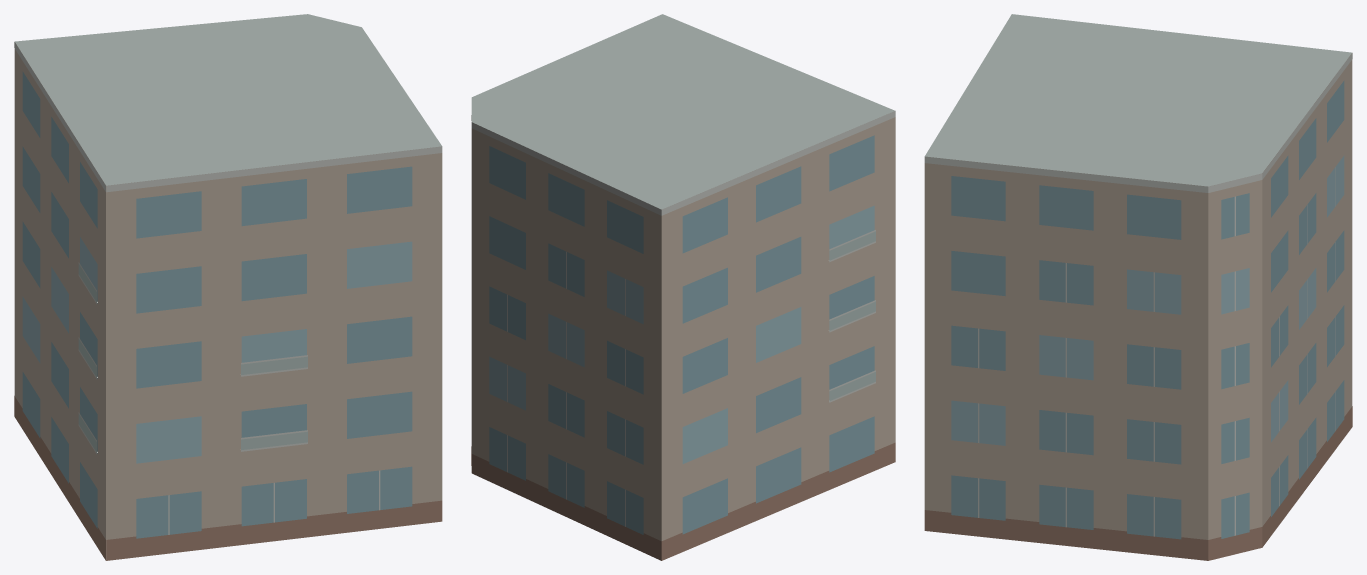
File: survey-upis-32877573.glb
3 views of the same model, side by side, from view 1: azimuth 30°, elevation 25°; view 2: azimuth 150°, elevation 25°; view 3: azimuth 270°, elevation 25° (orthographic). The views are drawn at different scales.
Visible parts, largest first — view 1: survey-upis-32877573.tmp; view 2: survey-upis-32877573.tmp; view 3: survey-upis-32877573.tmp.
Part boxes in pixels (bbox=[...]): survey-upis-32877573.tmp: bbox=[14, 14, 442, 560]; survey-upis-32877573.tmp: bbox=[471, 14, 895, 560]; survey-upis-32877573.tmp: bbox=[924, 14, 1352, 560].
Bounding box in the file's own units: 13.7 × 13.85 × 14.36.
